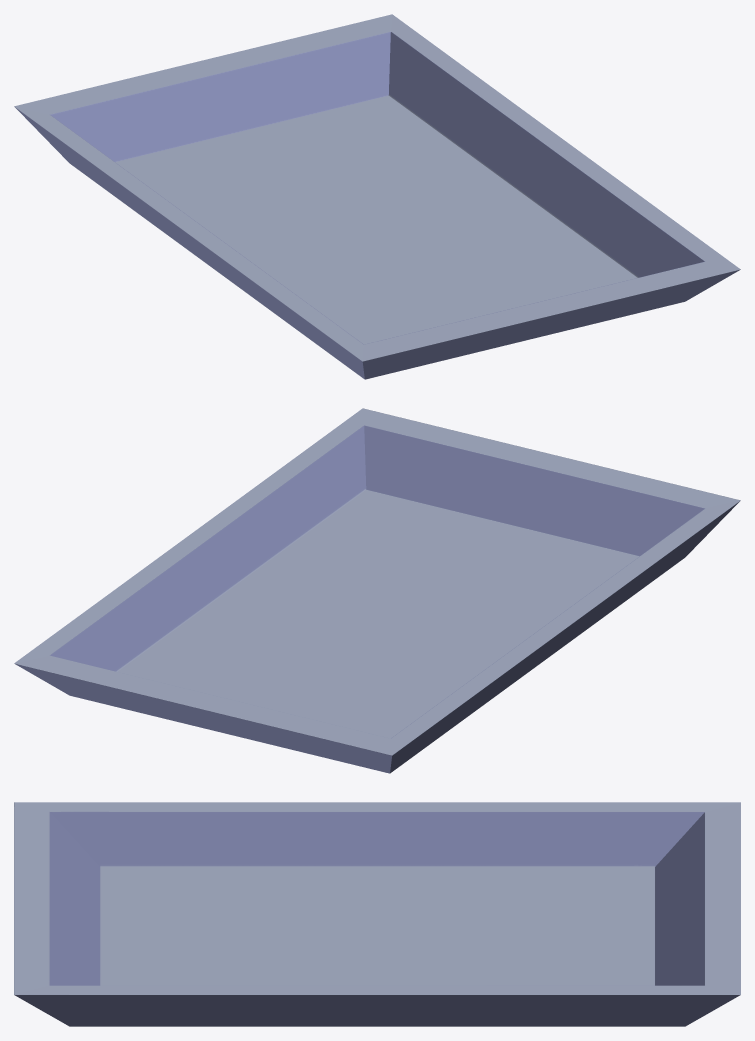
File: Nampan.fbx
3 views of the same model, one above another, from view 1: azimuth 30°, elevation 25°; view 2: azimuth 150°, elevation 25°; view 3: azimuth 270°, elevation 25° (orthographic). The views are drawn at different scales.
Visible parts, largest first — view 1: 5 nampan; view 2: 5 nampan; view 3: 5 nampan.
Part boxes in pixels (x1,y1,x2,y2): 5 nampan: [14, 14, 740, 379]; 5 nampan: [14, 408, 740, 773]; 5 nampan: [14, 802, 740, 1026].
Size of the model in its own units: 77.97 by 8.82 by 124.
